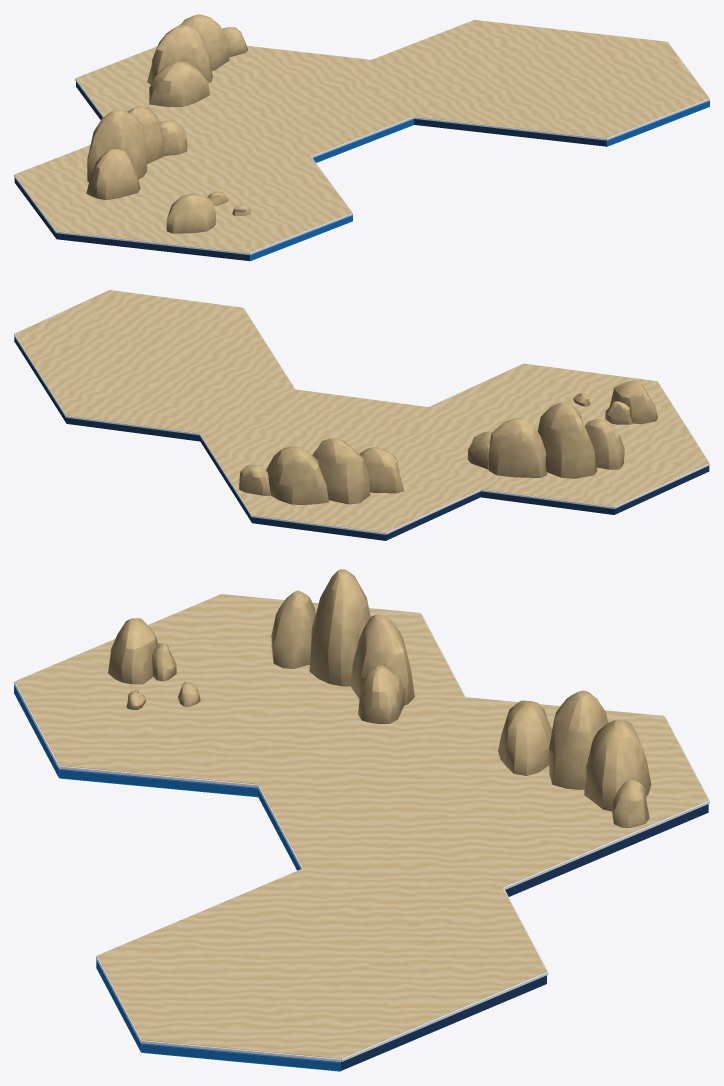
File: field_cm20_01.glb
3 views of the same model, one above another, from view 1: azimuth 30°, elevation 25°; view 2: azimuth 150°, elevation 25°; view 3: azimuth 270°, elevation 25° (orthographic). The views are drawn at different scales.
Parts seen in each view (by area): view 1: field_cm20_01-refined; view 2: field_cm20_01-refined; view 3: field_cm20_01-refined.
Part boxes in pixels (x1,y1,x2,y2): field_cm20_01-refined: (14,14,709,261); field_cm20_01-refined: (14,290,709,540); field_cm20_01-refined: (14,569,709,1071).
Bounding box in the file's own units: 19.17 × 2.06 × 12.12.
Materials: 1 (1 with a texture image).
